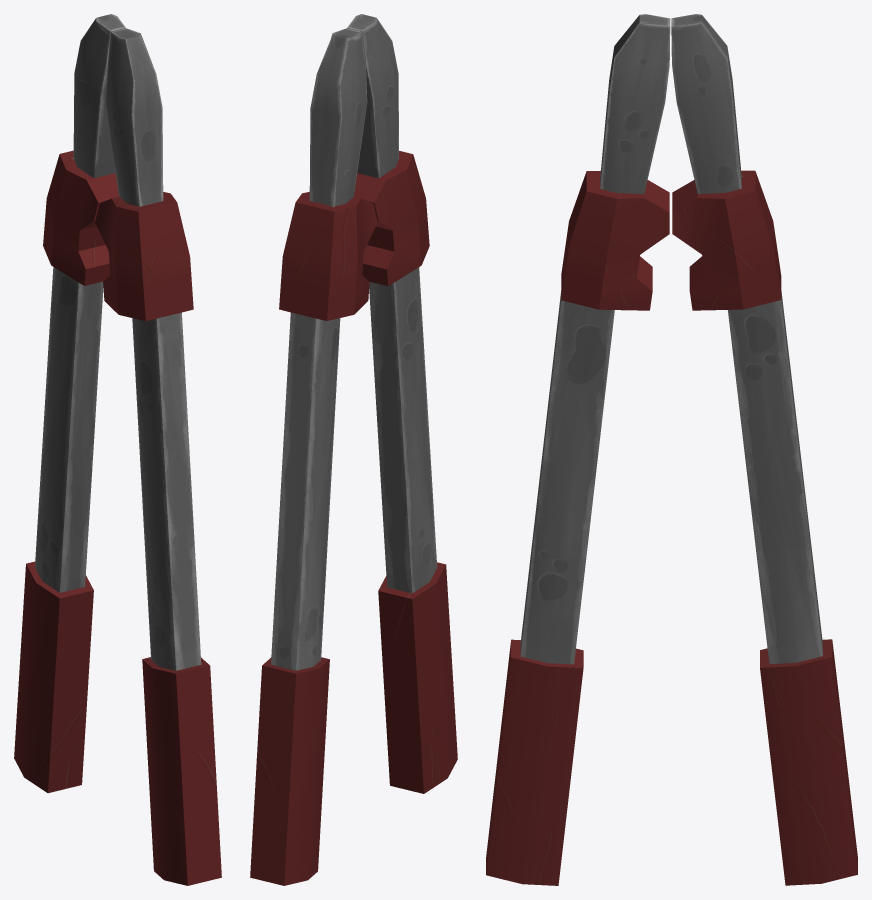
The model's file is scissors.fbx.
3 views of the same model, side by side, from view 1: azimuth 30°, elevation 25°; view 2: azimuth 150°, elevation 25°; view 3: azimuth 270°, elevation 25° (orthographic). The views are drawn at different scales.
Visible parts, largest first — view 1: scissors; view 2: scissors; view 3: scissors.
Boxes of the visible parts, left/top/right/bottom form: scissors: left=14, top=14, right=221, bottom=885; scissors: left=250, top=14, right=457, bottom=885; scissors: left=486, top=14, right=857, bottom=885.
Bounding box in the file's own units: 31.46 × 359 × 141.
